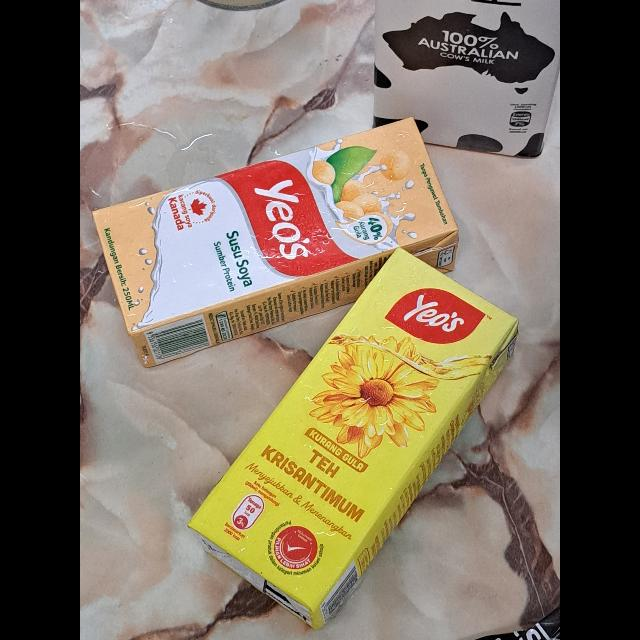caixinha: (192, 246, 514, 630), (92, 118, 456, 364), (374, 0, 560, 160)
